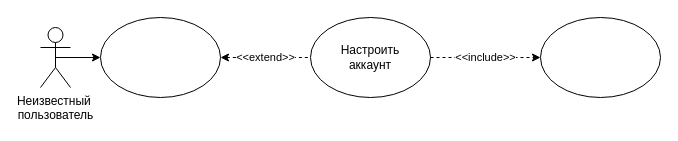
Some shapes in this 678 by 141 pixel diagram are drawn without their labels. The shapes that lost their labels are listed below. From the top down, each one's centre as x and y in pixels, then its label:
At pixel 160 57: "Регистрация".
At pixel 600 57: "Выбрать роль".
